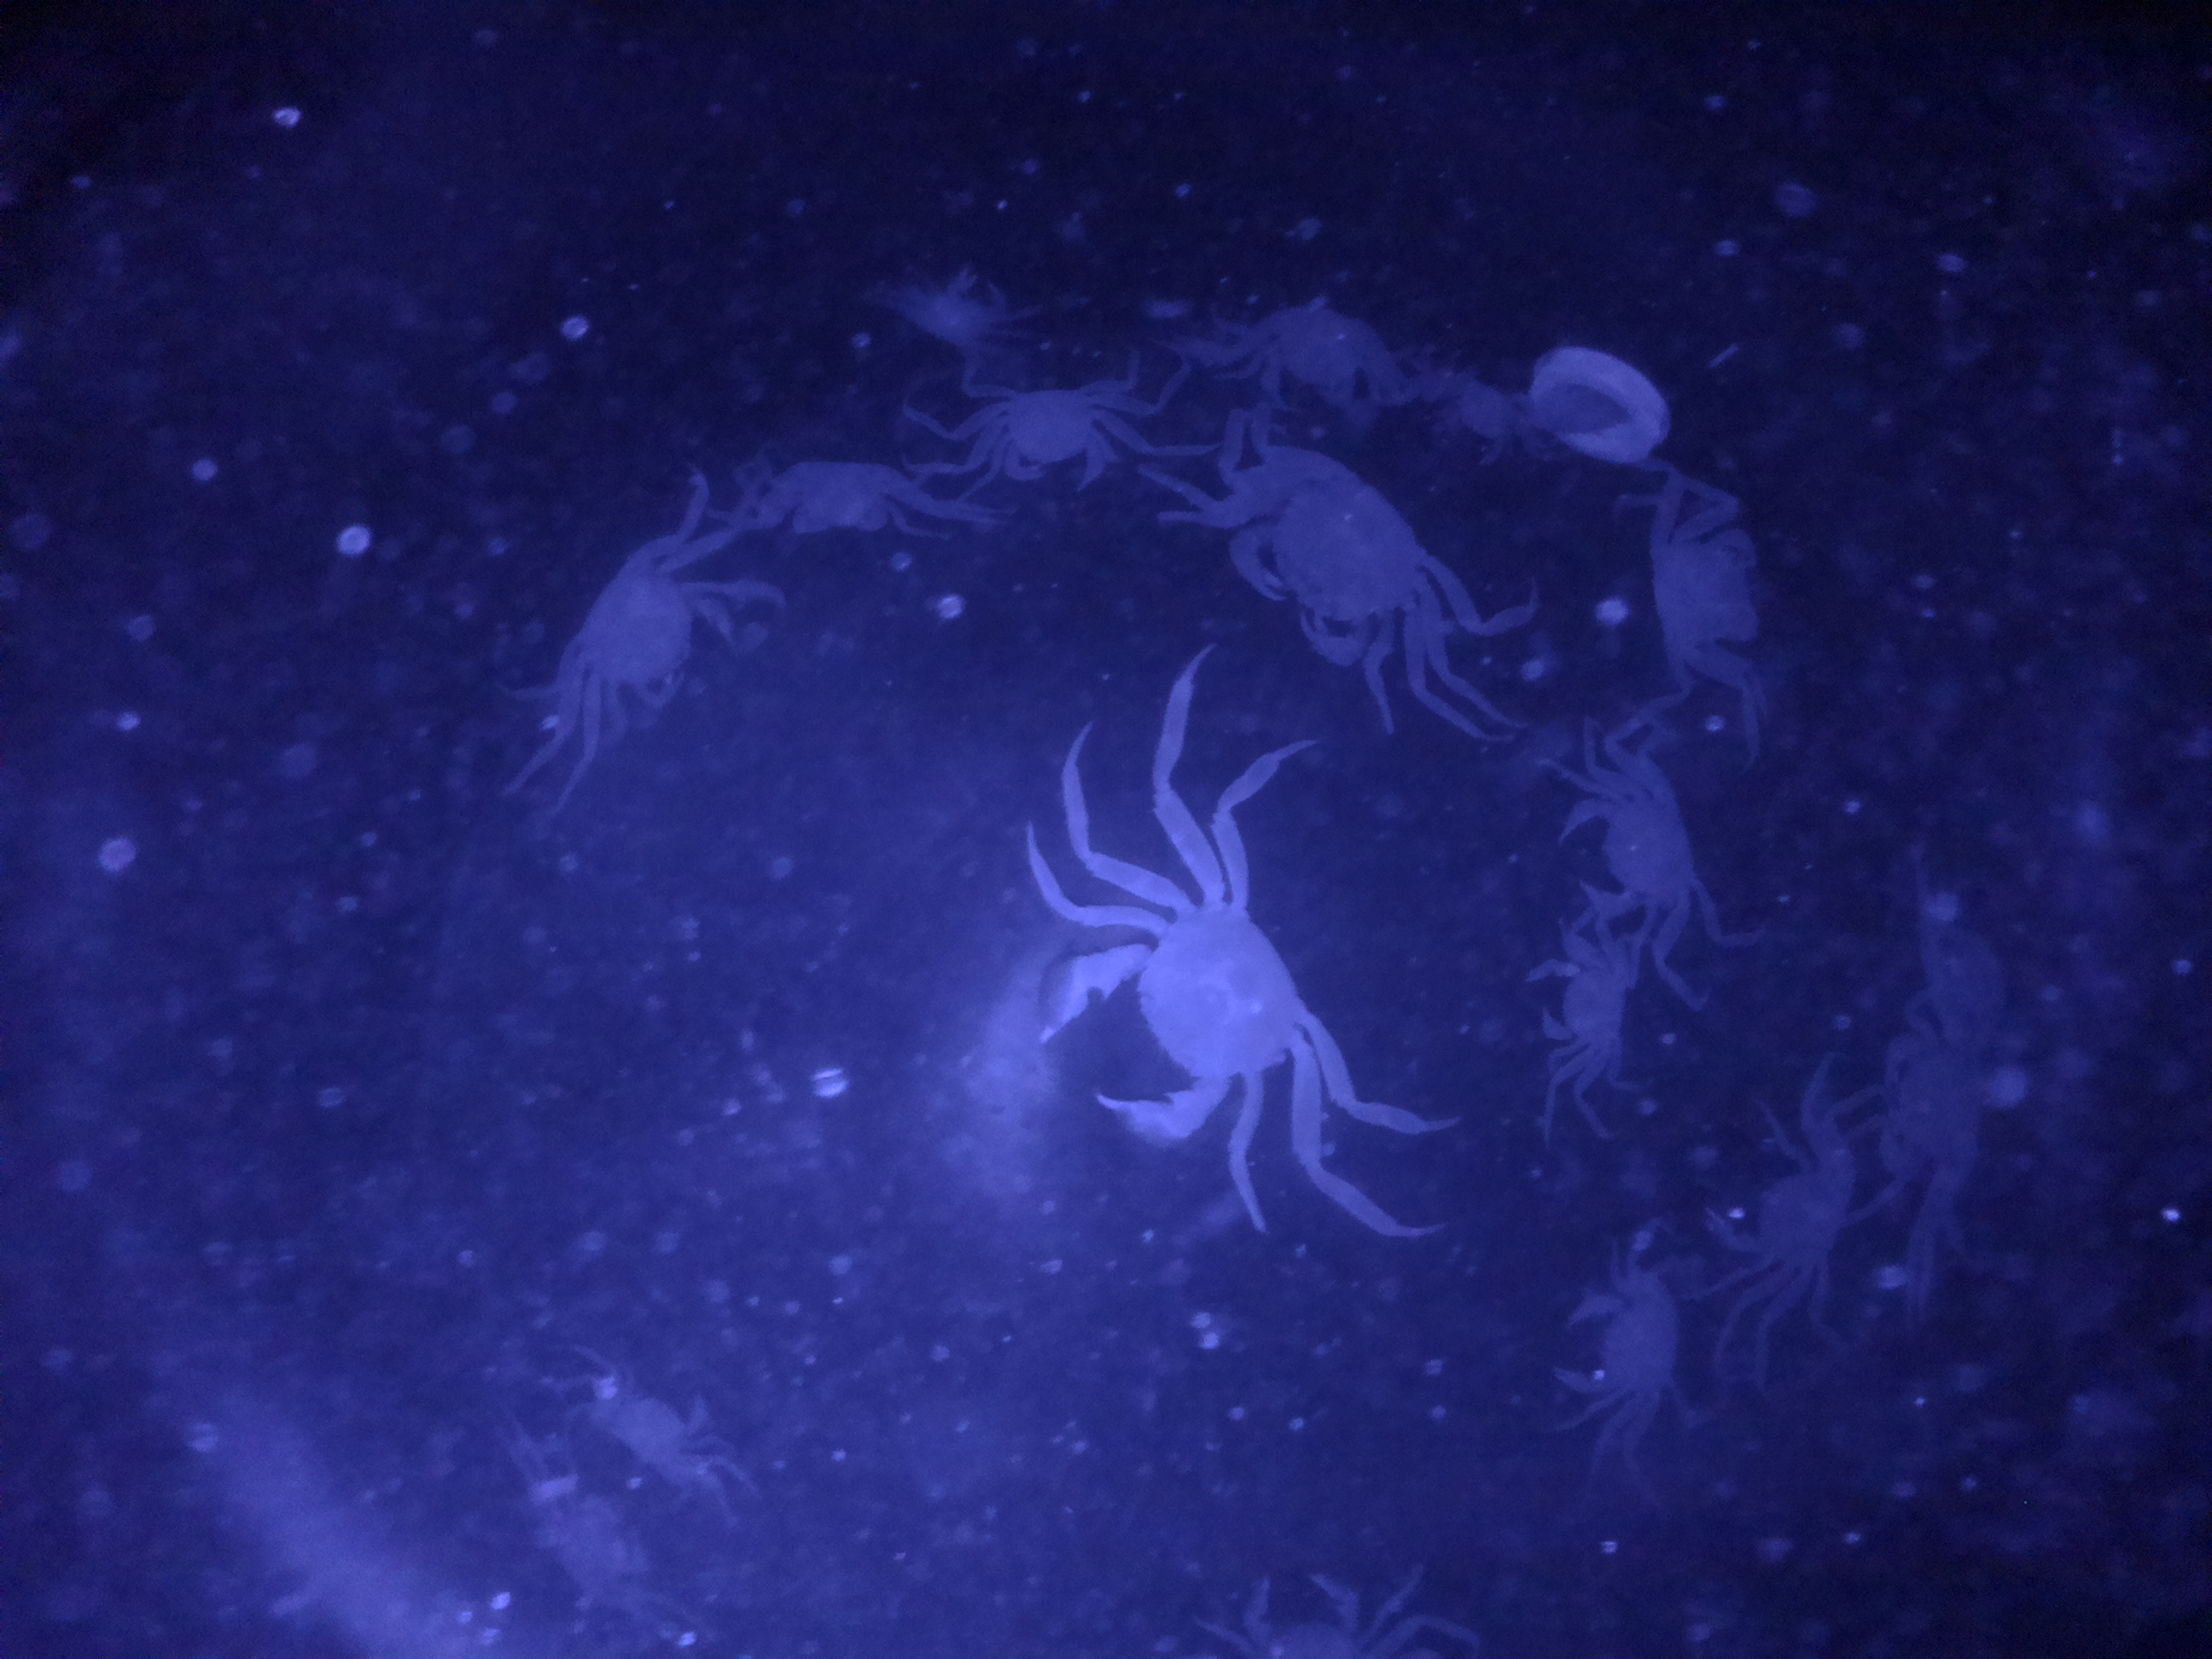Crab: (1024, 852, 1320, 1159), (1205, 420, 1467, 701), (1693, 1087, 1872, 1319), (559, 533, 756, 742), (1538, 751, 1737, 950), (1534, 1253, 1703, 1452), (949, 361, 1162, 507), (1651, 483, 1784, 708), (752, 430, 942, 554), (1521, 927, 1648, 1087)
